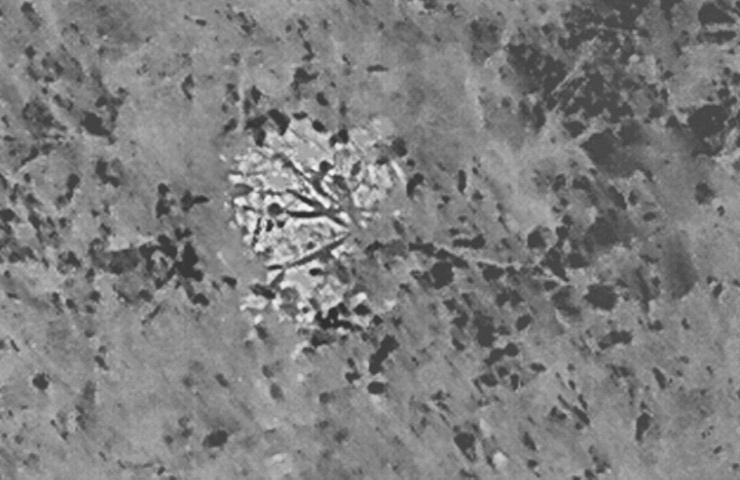landmines: (222, 115, 433, 323)
